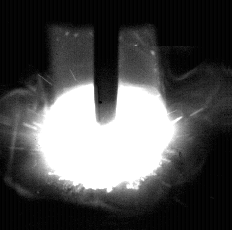arame: (95, 0, 120, 124)
poca: (37, 0, 175, 230)
